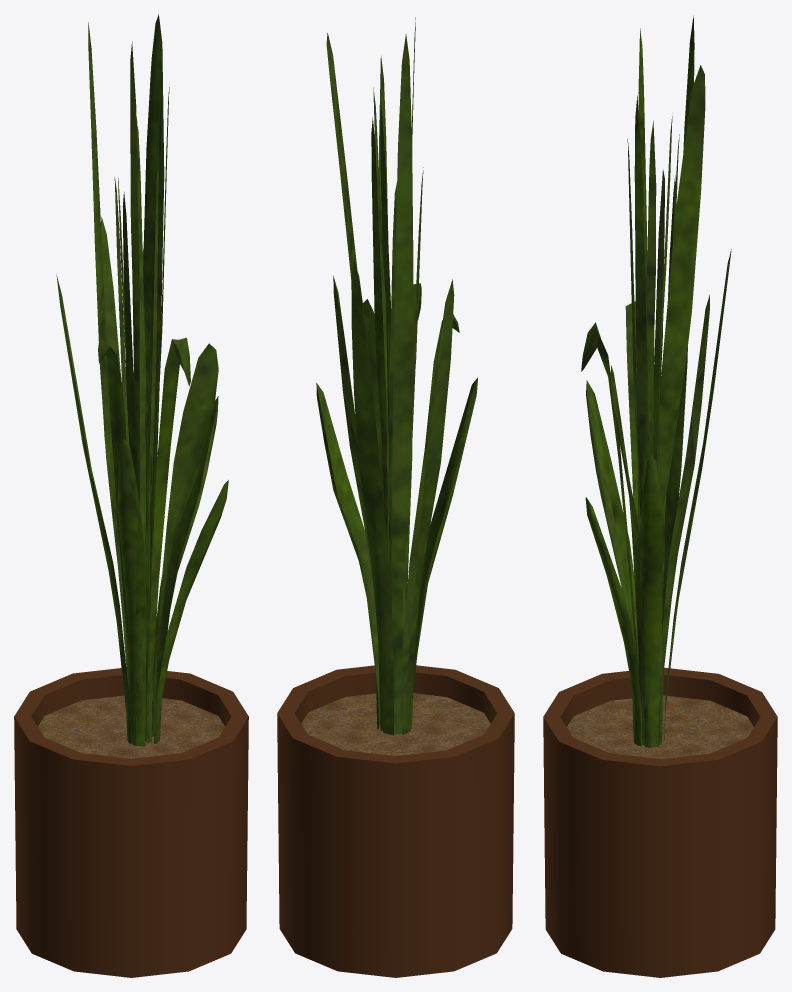
File: Plant_1.fbx
The picture shows the model from 3 angles, left to right: view 1: azimuth 30°, elevation 25°; view 2: azimuth 150°, elevation 25°; view 3: azimuth 270°, elevation 25°; orthographic projection.
Visible parts, largest first — view 1: Plant_1_LOD_0; view 2: Plant_1_LOD_0; view 3: Plant_1_LOD_0.
Boxes of the visible parts, bbox=[...] form: Plant_1_LOD_0: bbox=[14, 14, 248, 977]; Plant_1_LOD_0: bbox=[277, 17, 514, 977]; Plant_1_LOD_0: bbox=[543, 15, 777, 977].
Size of what is drawn, in the model's own units: 27.98 by 119 by 27.98.
